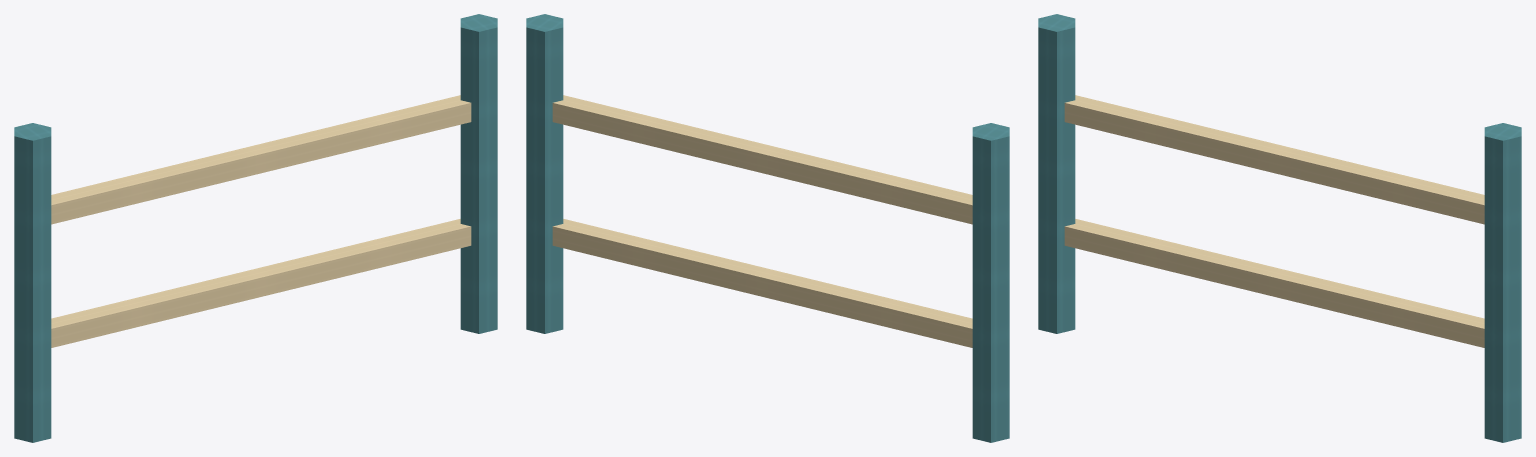
File: atlas100-atompunk-util04.lod2.glb
The picture shows the model from 3 angles, left to right: view 1: azimuth 30°, elevation 25°; view 2: azimuth 150°, elevation 25°; view 3: azimuth 330°, elevation 25°; orthographic projection.
Parts seen in each view (by area): view 1: atlas100-atompunk-util04:part-005, atlas100-atompunk-util04:part-004, atlas100-atompunk-util04:part-000, atlas100-atompunk-util04:part-002; view 2: atlas100-atompunk-util04:part-005, atlas100-atompunk-util04:part-004, atlas100-atompunk-util04:part-000, atlas100-atompunk-util04:part-002; view 3: atlas100-atompunk-util04:part-005, atlas100-atompunk-util04:part-004, atlas100-atompunk-util04:part-002, atlas100-atompunk-util04:part-000.
Part boxes in pixels (x1,y1,x2,y2): atlas100-atompunk-util04:part-005: [51, 95, 471, 224]; atlas100-atompunk-util04:part-004: [51, 219, 471, 347]; atlas100-atompunk-util04:part-000: [14, 123, 51, 442]; atlas100-atompunk-util04:part-002: [460, 14, 497, 333]; atlas100-atompunk-util04:part-005: [552, 95, 972, 224]; atlas100-atompunk-util04:part-004: [552, 219, 972, 347]; atlas100-atompunk-util04:part-000: [972, 123, 1009, 442]; atlas100-atompunk-util04:part-002: [526, 14, 563, 333]; atlas100-atompunk-util04:part-005: [1064, 95, 1484, 224]; atlas100-atompunk-util04:part-004: [1064, 219, 1484, 347]; atlas100-atompunk-util04:part-002: [1484, 123, 1521, 442]; atlas100-atompunk-util04:part-000: [1038, 14, 1075, 333].
Bounding box in the file's own units: 1.97 × 1.18 × 0.1296.
2 materials, 2 textured.
